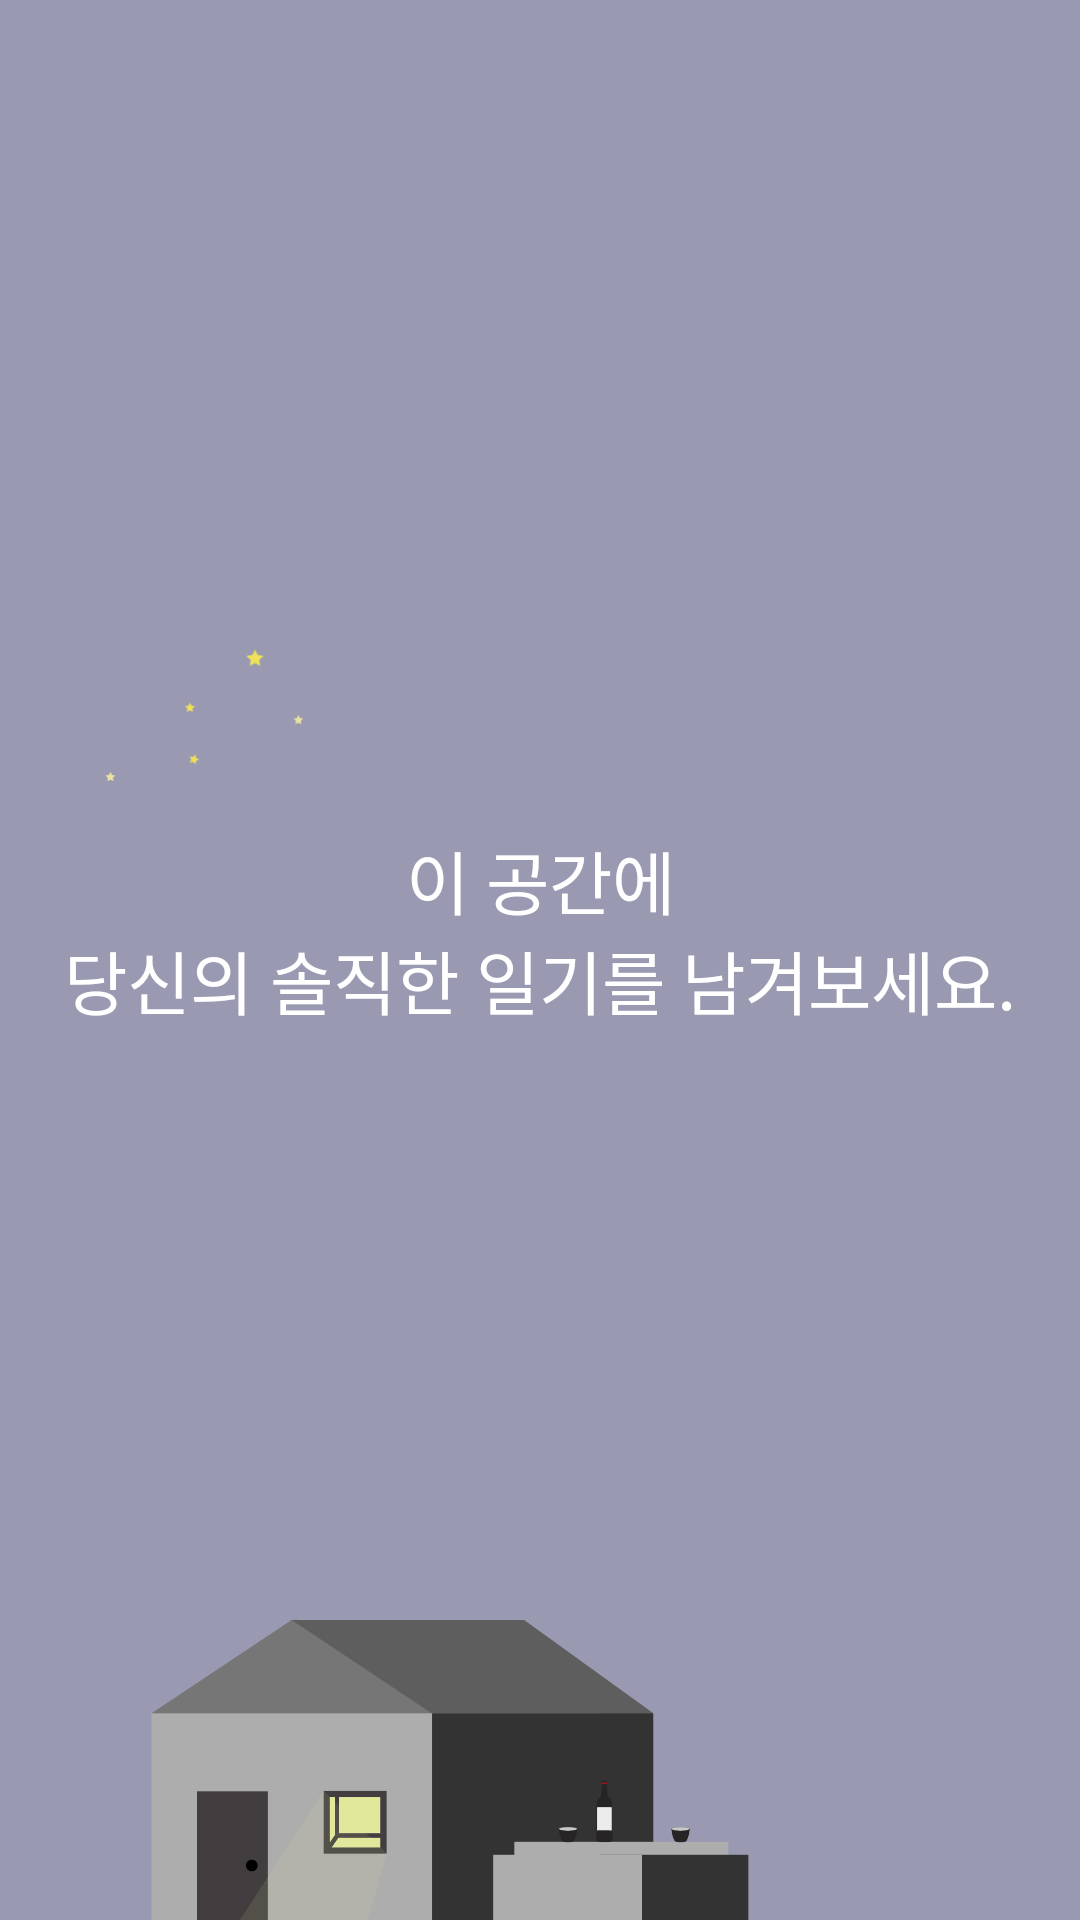

Screen size 1080x1920. Icon name, then its center in pixels as [x,y]:
stars for intro: [204,715]
